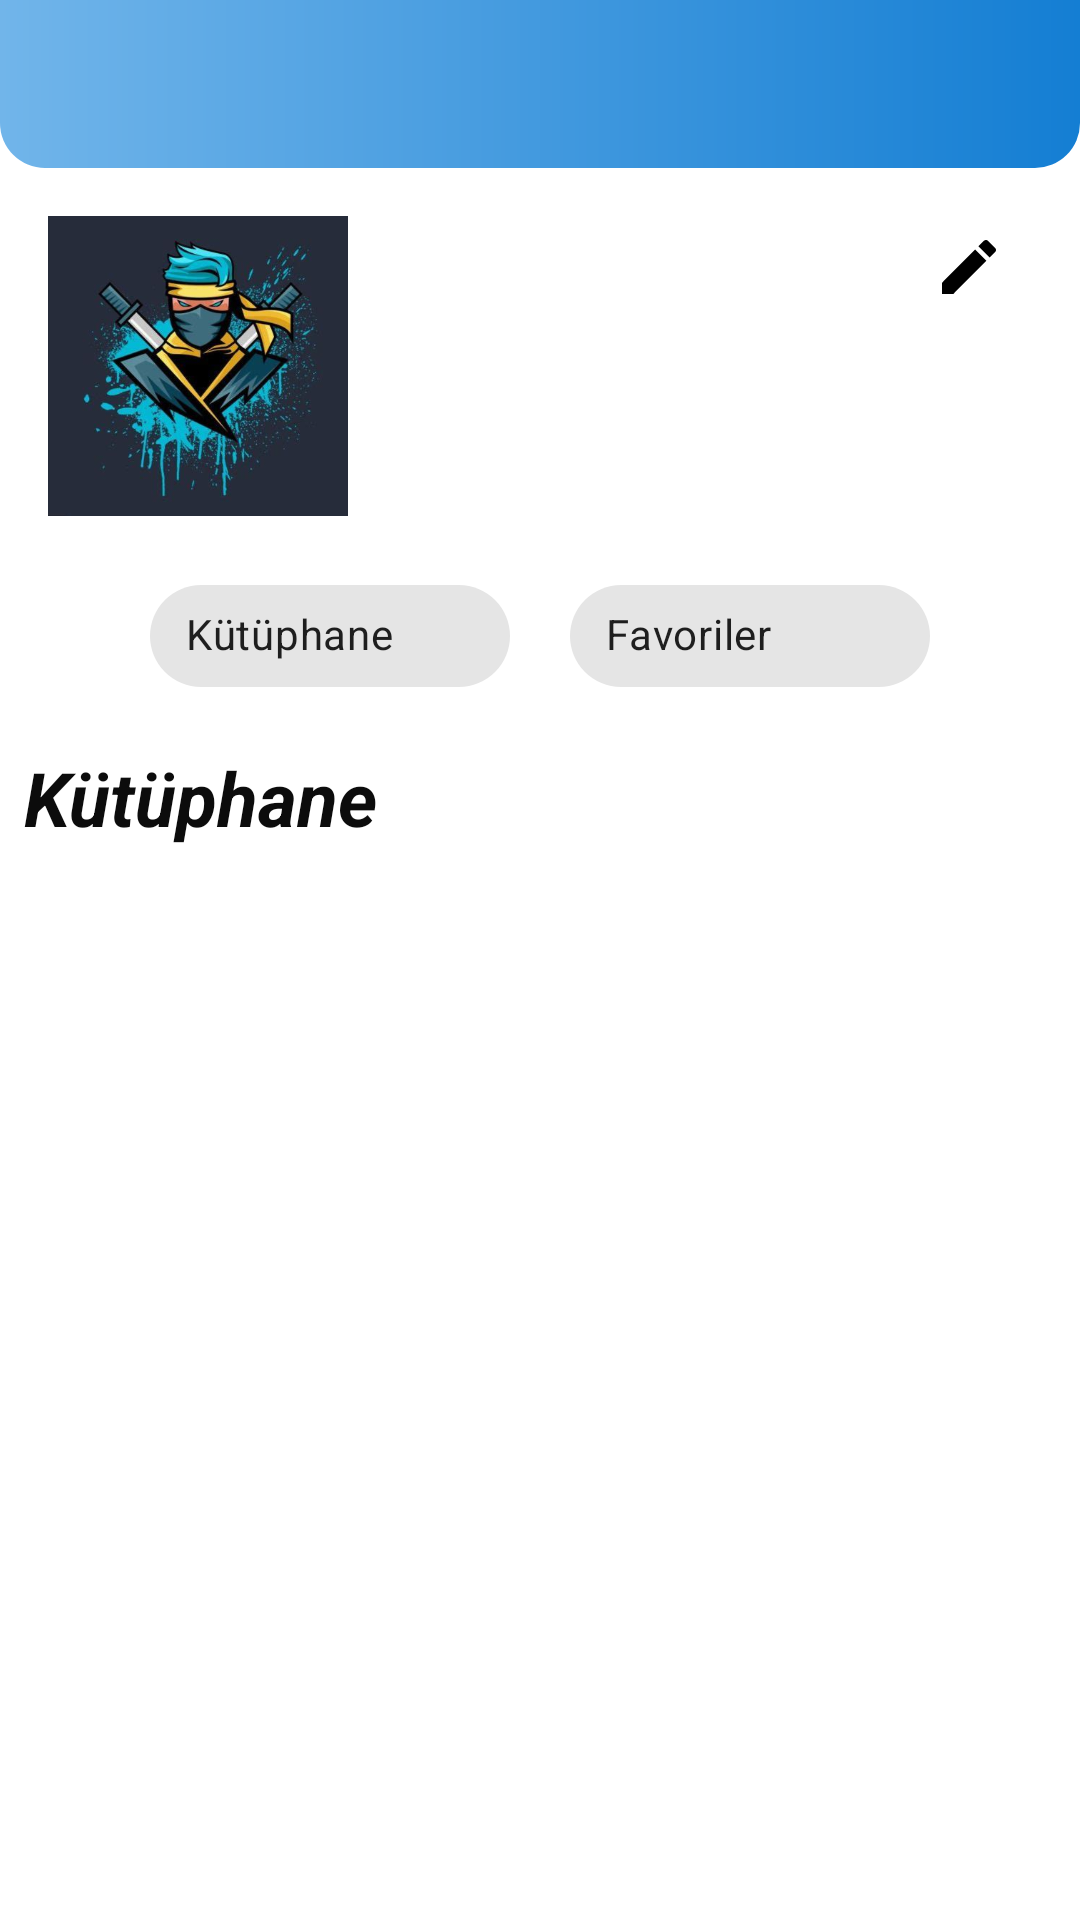

Where icons sit on this 1080px x 1920px app screen, as (x1, y1, x2, y2):
edit resim: (942, 240, 996, 294)
steamprofile: (48, 216, 348, 516)
